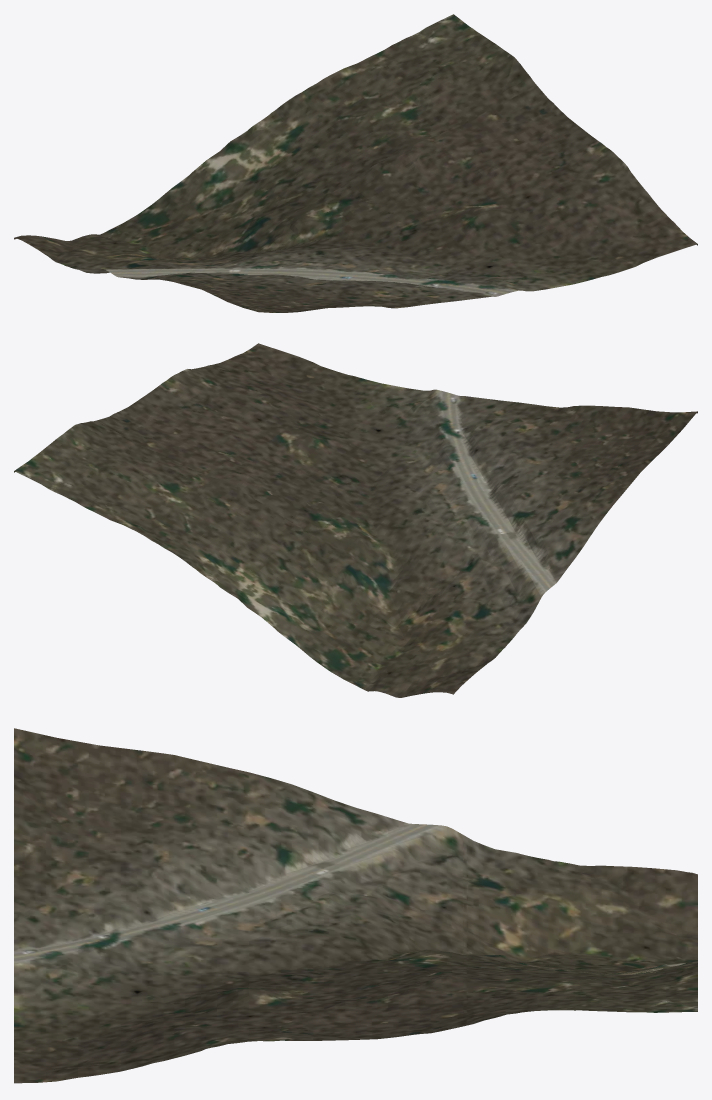
3 views of the same model, one above another, from view 1: azimuth 30°, elevation 25°; view 2: azimuth 150°, elevation 25°; view 3: azimuth 270°, elevation 25° (orthographic). The views are drawn at different scales.
Bounding box in the file's own units: 250 × 74.72 × 241.
Materials: 1 (1 with a texture image).
